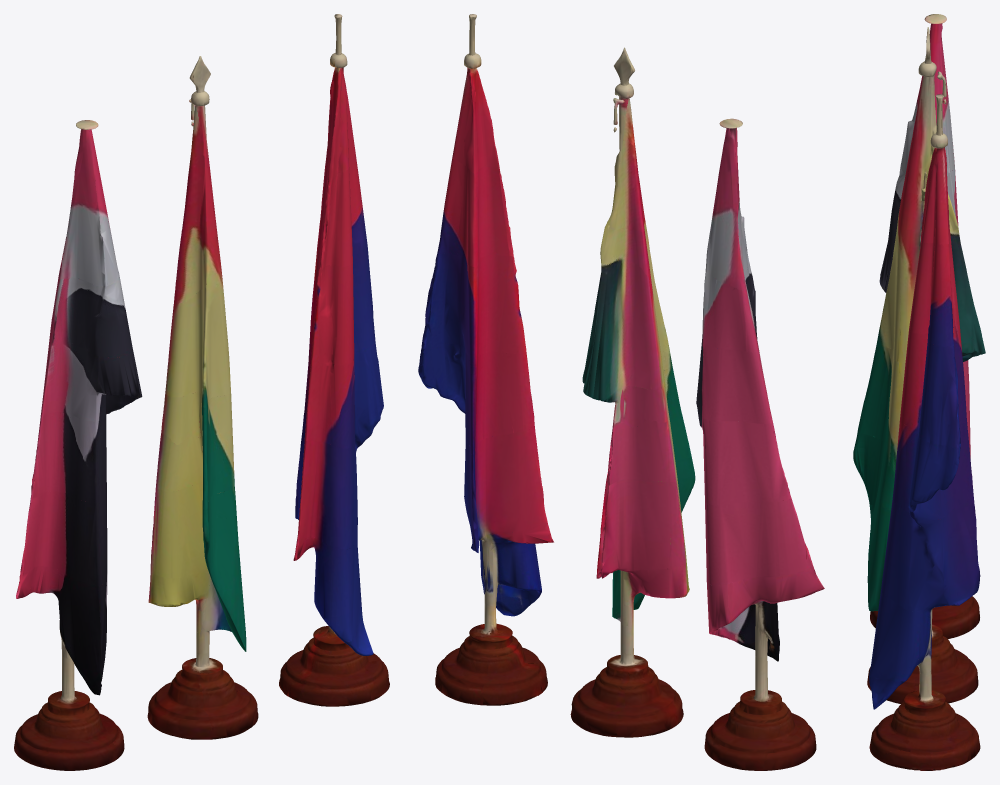
Rendered from banderas.glb.
3 views of the same model, side by side, from view 1: azimuth 30°, elevation 25°; view 2: azimuth 150°, elevation 25°; view 3: azimuth 270°, elevation 25° (orthographic).
Parts seen in each view (by area): view 1: tripo_node_9033a067-12a3-466d-b851-e81574b9c8f5; view 2: tripo_node_9033a067-12a3-466d-b851-e81574b9c8f5; view 3: tripo_node_9033a067-12a3-466d-b851-e81574b9c8f5.
Boxes of the visible parts, x1,y1,x2,y2 form: tripo_node_9033a067-12a3-466d-b851-e81574b9c8f5: (14, 14, 389, 770); tripo_node_9033a067-12a3-466d-b851-e81574b9c8f5: (418, 14, 824, 770); tripo_node_9033a067-12a3-466d-b851-e81574b9c8f5: (853, 14, 985, 770).
Bounding box in the file's own units: 0.6028 × 1 × 0.1828.
1 material, 1 textured.
